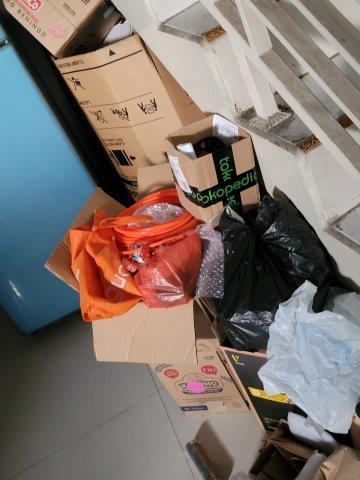kardus: (49, 36, 204, 198), (124, 324, 245, 418), (163, 113, 262, 223)
plastik: (260, 285, 360, 428), (225, 203, 331, 310), (129, 237, 205, 304)
